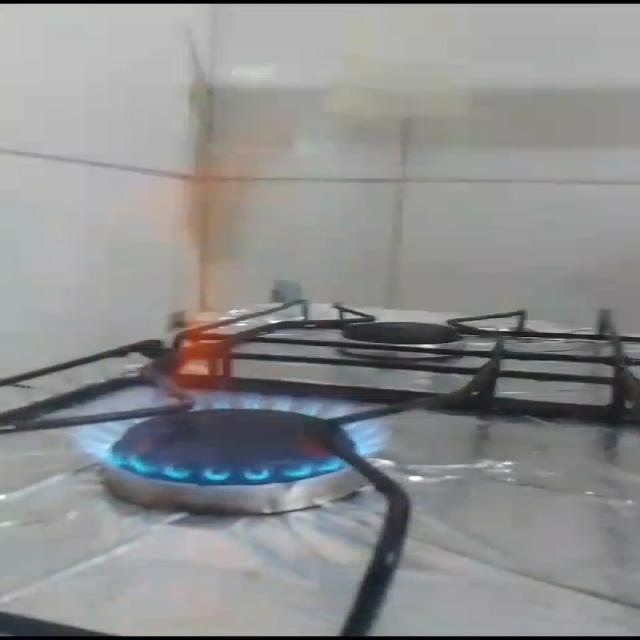fogo-ypXI: (61, 124, 398, 487)
